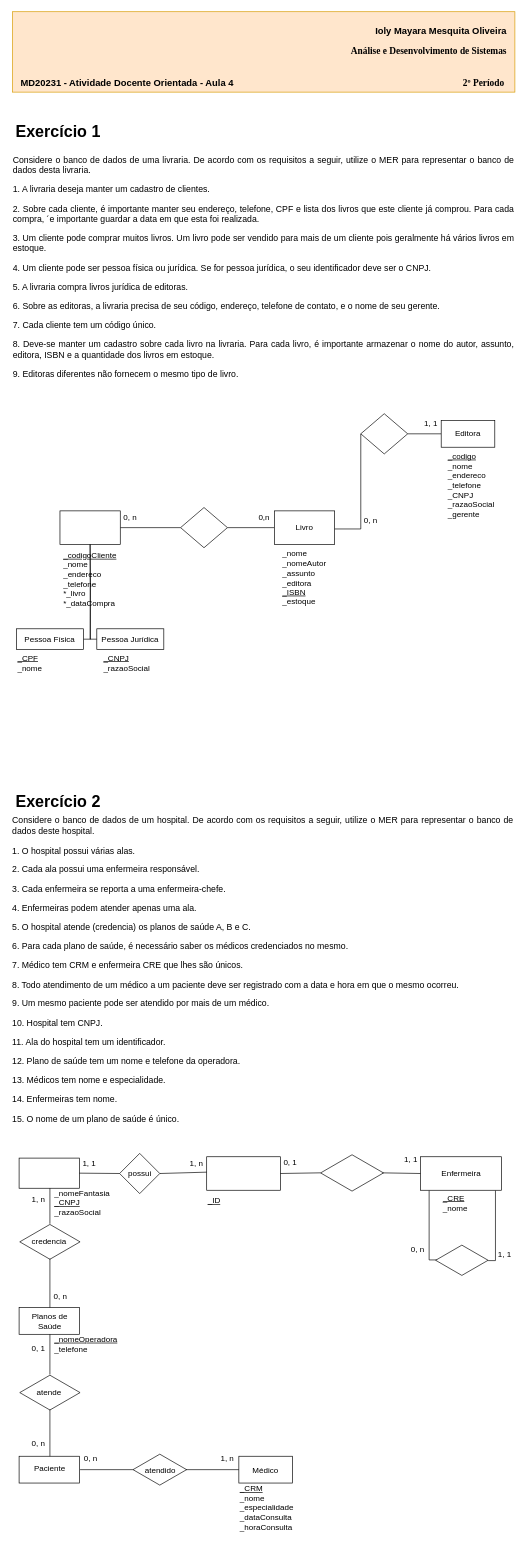
This 527x1544 diagram has some shape labels left out. The centre of each missing label's shape, as x and y in pixels:
Ala Hospitalar: [243,1173]
Cliente: [89,527]
compra: [203,527]
fornece: [384,433]
Hospital: [48,1172]
reporta: [461,1260]
responsabilidade: [352,1172]
